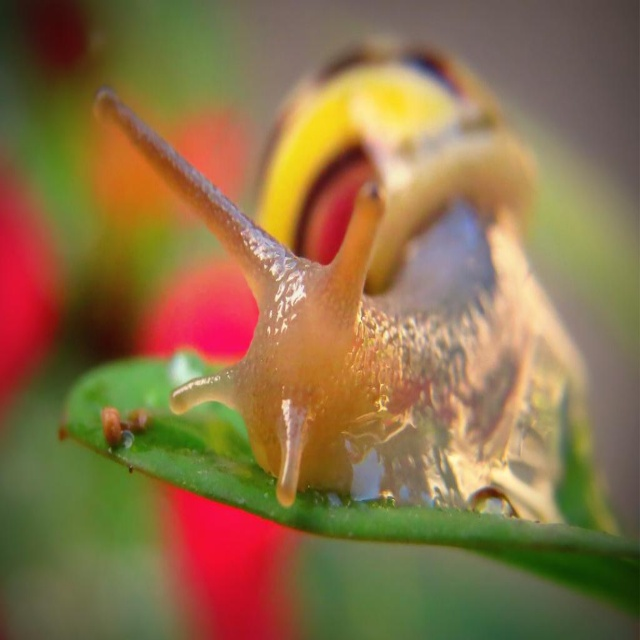Snail: (84, 18, 623, 532)
